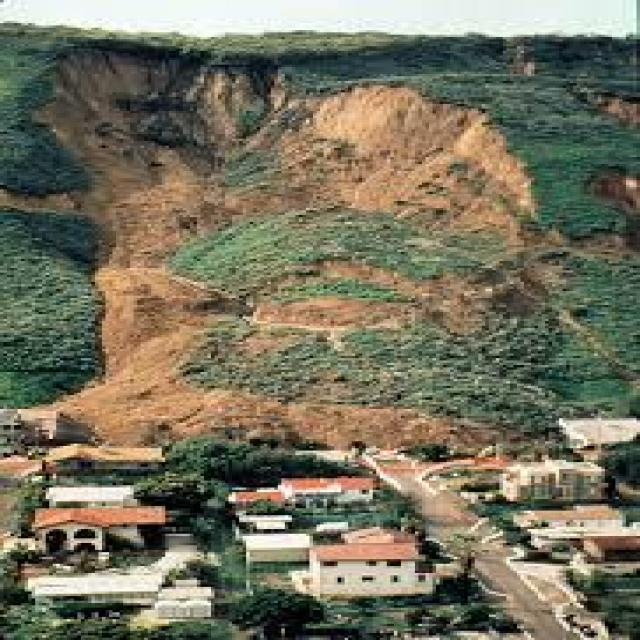Earthquake: (62, 26, 631, 522)
